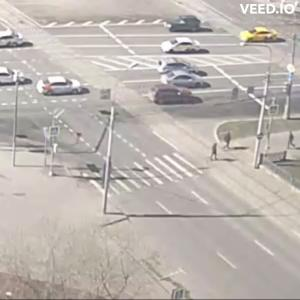car: (152, 86, 204, 108), (38, 76, 90, 97), (162, 38, 211, 56), (163, 72, 210, 90), (167, 16, 209, 35), (37, 74, 68, 96), (241, 28, 281, 44), (158, 57, 198, 73), (2, 32, 25, 49), (1, 67, 19, 86)
